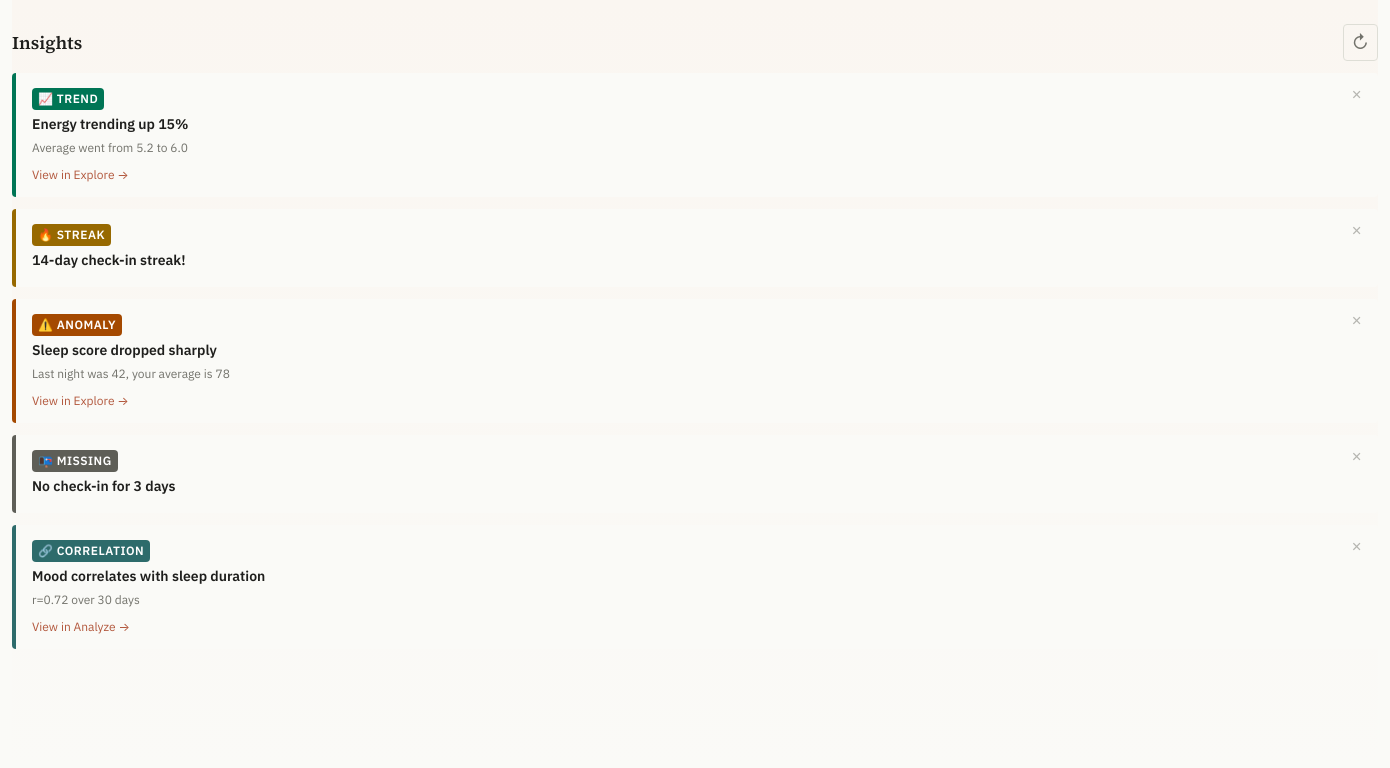
Scenario: InsightCards › shows spinner while generating
Check: the text "Energy trending up 15%" is shown, box [32, 115, 188, 133]
Click the button named "Refresh insights": point(1360, 42) [1343, 24, 1378, 61]
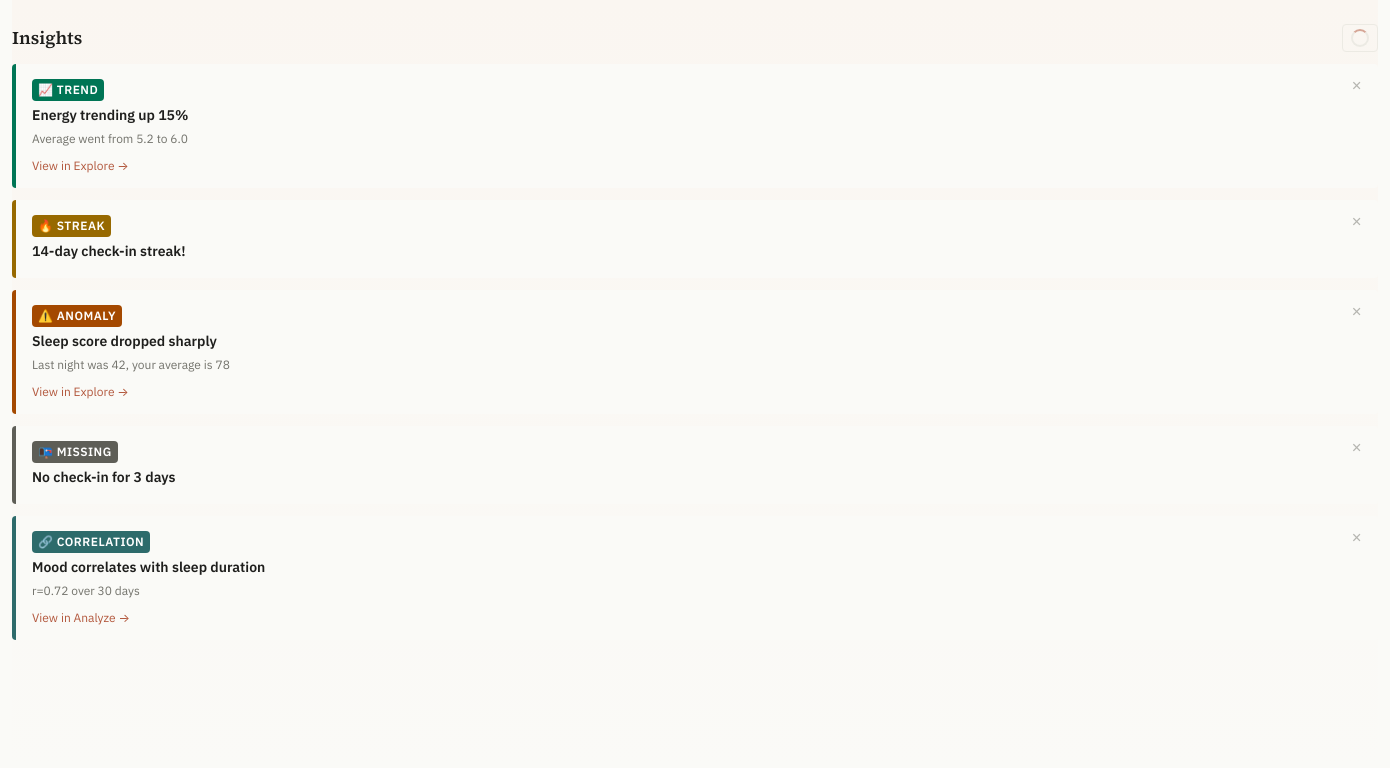
Check: the element with test id "refresh-spinner" is shown, box [1351, 29, 1369, 47]
